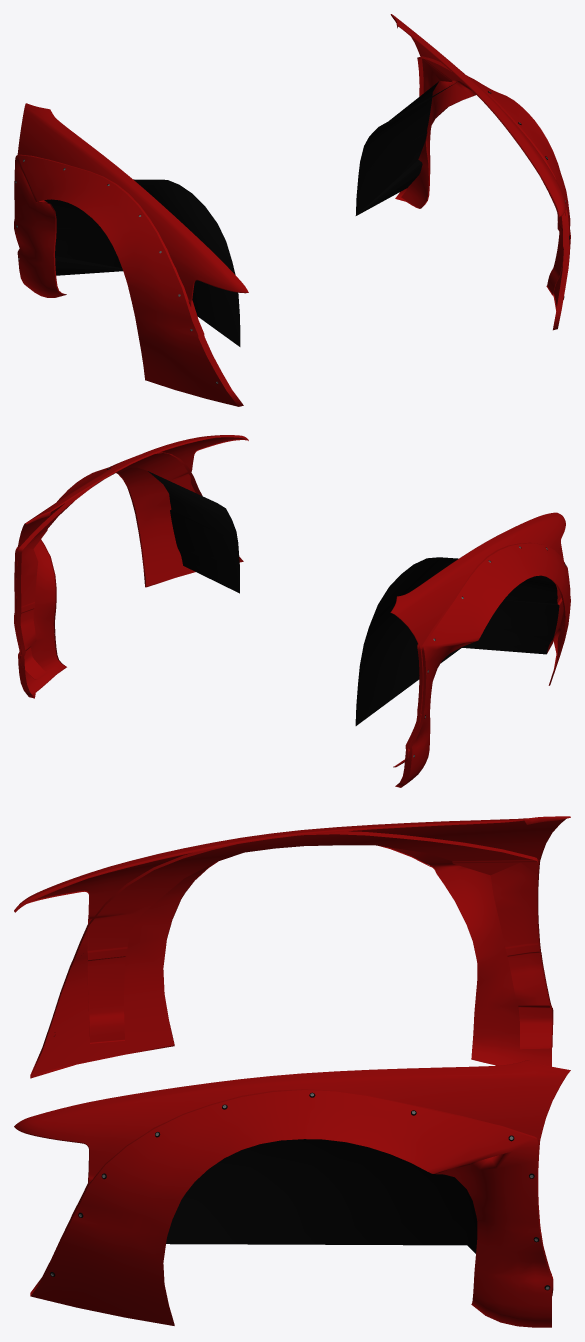
The model's file is frontfenders_rocketbunnyv2.glb.
3 renders of one model, top to bottom at view 1: azimuth 30°, elevation 25°; view 2: azimuth 150°, elevation 25°; view 3: azimuth 270°, elevation 25°, orthographic. The views are drawn at different scales.
Parts seen in each view (by area): view 1: Extensions, Undercarriage, Fenders; view 2: Extensions, Undercarriage, Fenders; view 3: Extensions, Fenders, Undercarriage.
Part boxes in pixels (x1,y1,x2,y2): Extensions: (14, 56, 570, 406); Undercarriage: (44, 81, 456, 346); Fenders: (17, 14, 565, 306); Extensions: (14, 452, 570, 787); Undercarriage: (148, 471, 559, 725); Fenders: (16, 435, 565, 767); Extensions: (30, 831, 551, 1327); Fenders: (14, 816, 570, 1295); Undercarriage: (166, 1139, 477, 1253).
Bounding box in the file's own units: 1.84 × 0.724 × 1.41.
